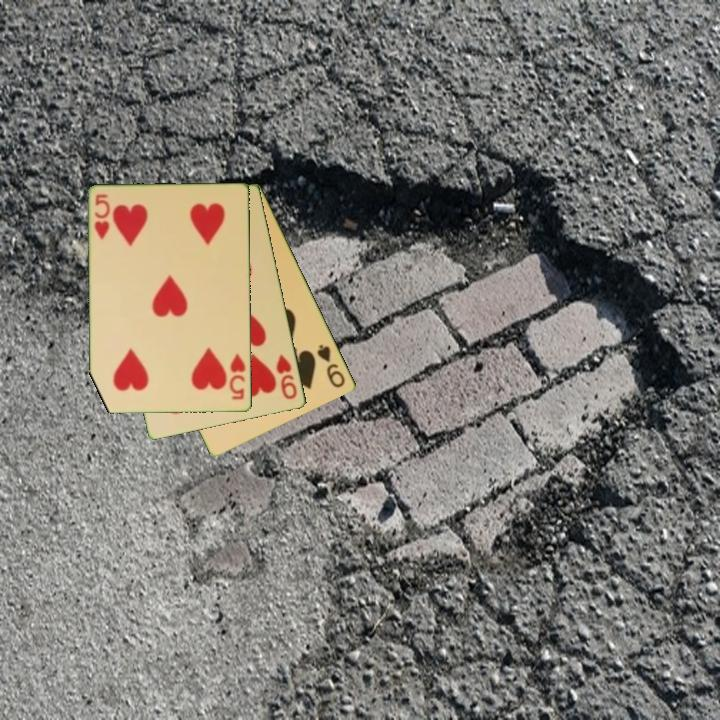5h: (226, 350, 248, 403), (91, 191, 113, 242)
9h: (273, 351, 300, 402)
9s: (314, 341, 348, 391)
